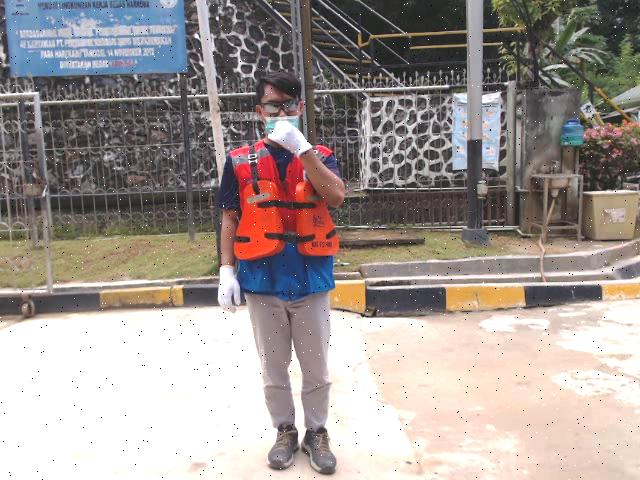glasses: (261, 100, 301, 112)
gloves: (268, 119, 313, 156), (213, 264, 243, 316)
mask: (263, 116, 299, 134)
safety-shoes: (299, 426, 338, 477), (263, 420, 301, 472)
vest: (232, 177, 341, 262)
